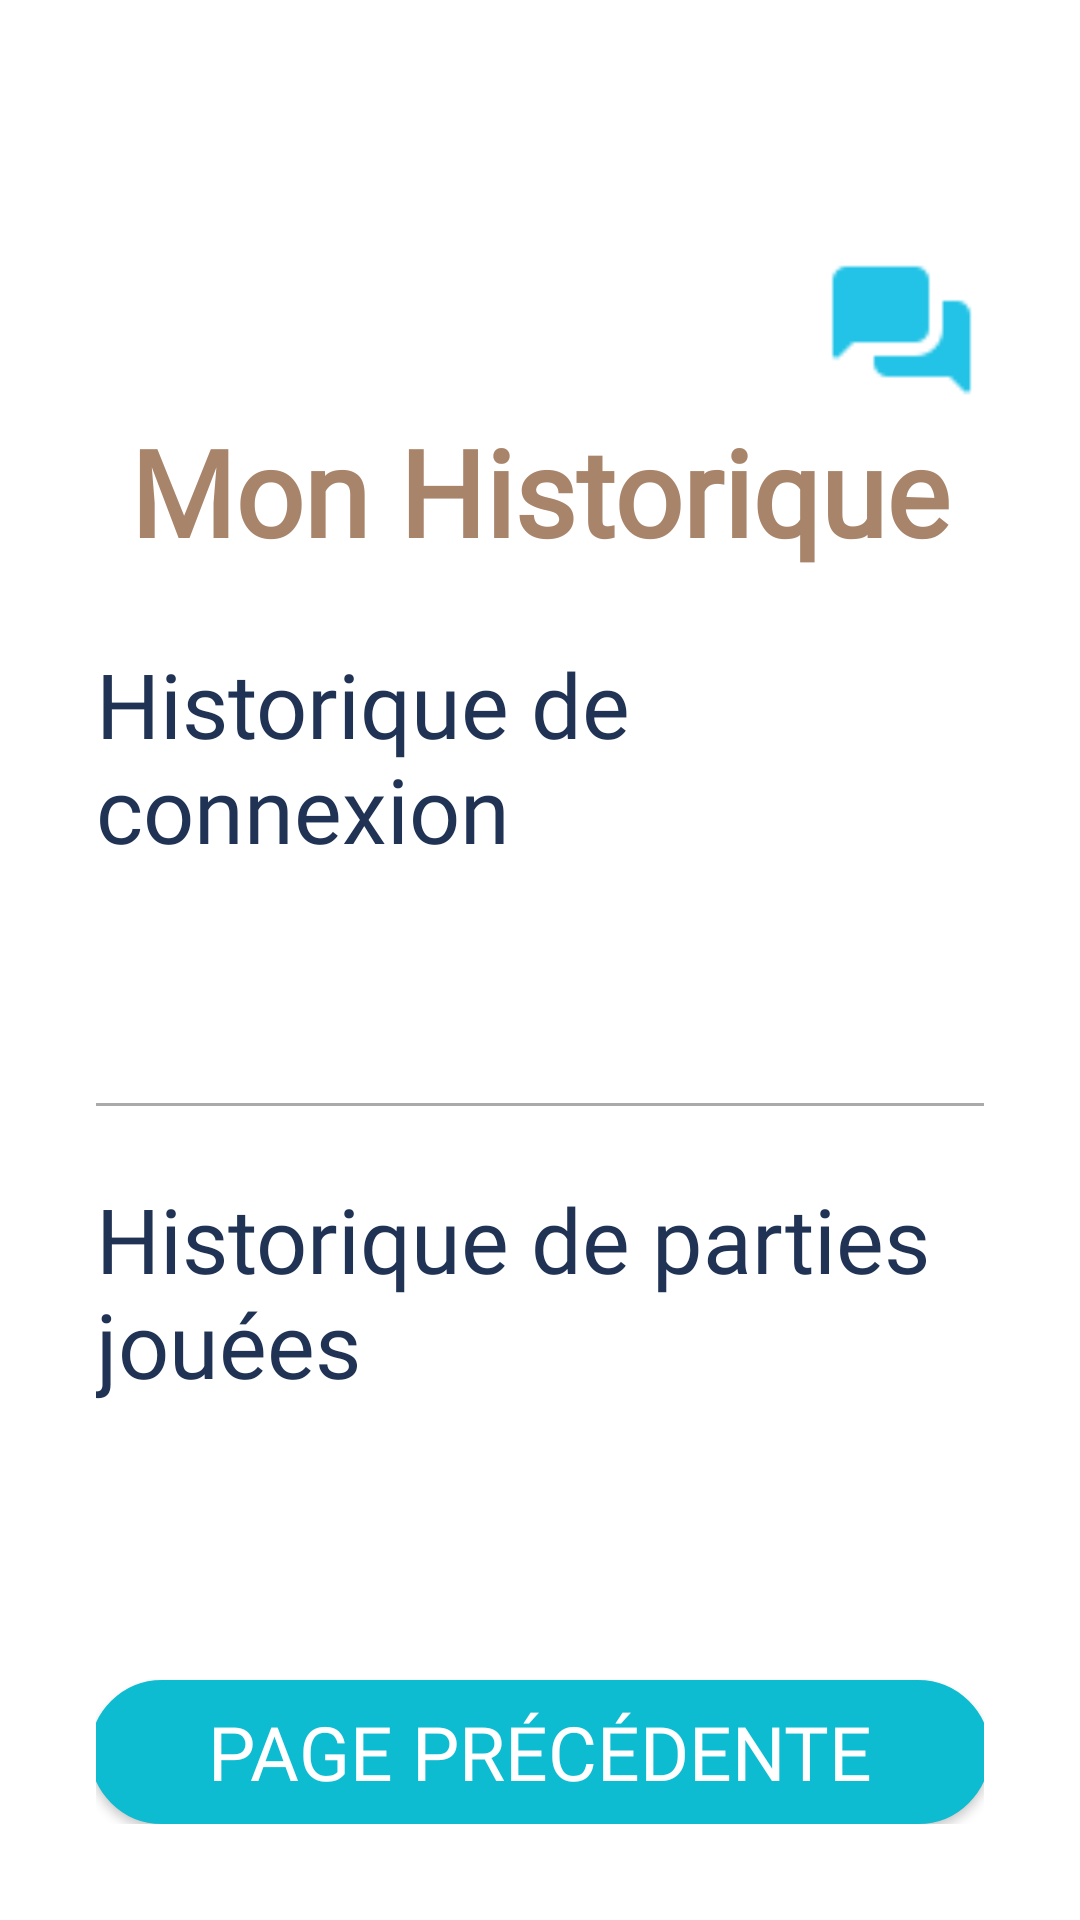

Screen size 1080×1920. Icon name, then its box in pixels as (x1, y1, x2, y2):
use chat: (831, 265, 972, 395)
